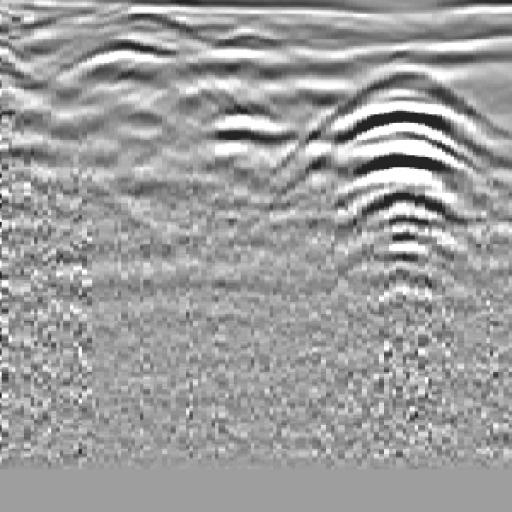metalic: (308, 52, 493, 286)
